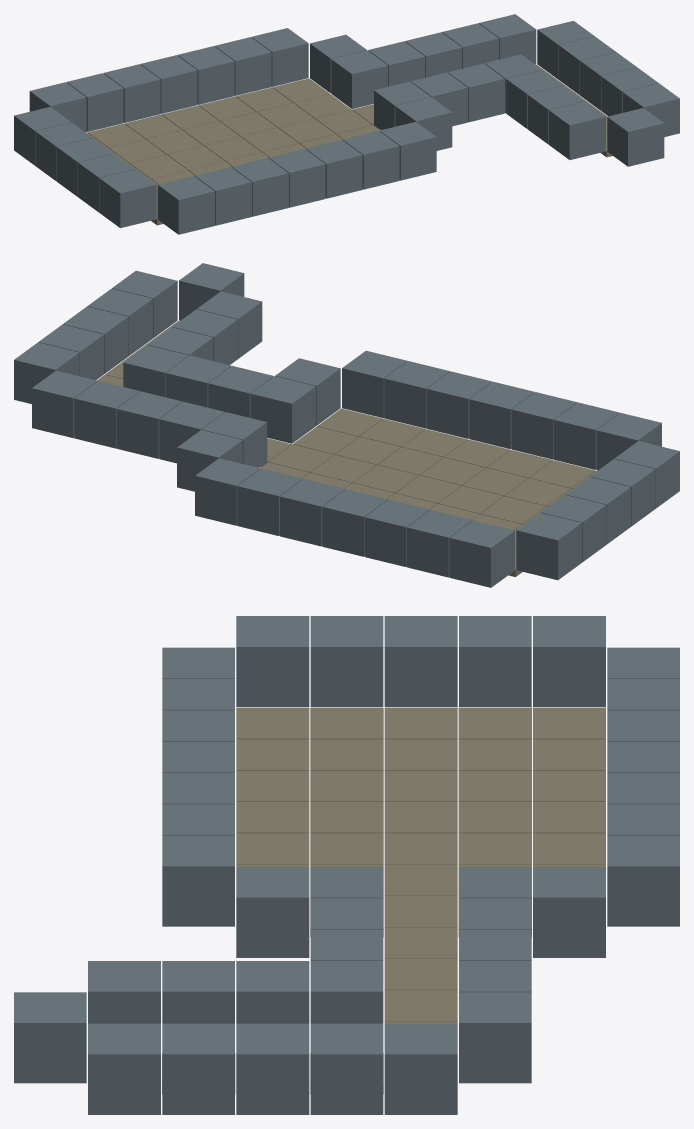
The model's file is room.glb.
3 renders of one model, top to bottom at view 1: azimuth 30°, elevation 25°; view 2: azimuth 150°, elevation 25°; view 3: azimuth 270°, elevation 25°, orthographic. The views are drawn at different scales.
Parts seen in each view (by area): view 1: wall_2_7_2, wall_3_8_2, wall_13_9_2, wall_14_10_2, wall_10_4_2, wall_15_9_2, wall_10_7_2, wall_3_2_2, wall_5_2_2, wall_8_8_2, wall_12_4_2, wall_8_2_2 (+85 smaller); view 2: wall_10_6_2, wall_3_2_2, wall_2_3_2, wall_3_8_2, wall_10_3_2, wall_15_5_2, wall_14_10_2, wall_4_8_2, wall_5_8_2, wall_6_8_2, wall_7_8_2, wall_12_6_2 (+84 smaller); view 3: wall_13_6_2, wall_13_7_2, wall_15_5_2, wall_15_7_2, wall_15_6_2, wall_2_6_2, wall_13_8_2, wall_13_9_2, wall_2_7_2, wall_2_5_2, wall_9_8_2, wall_15_8_2 (+93 smaller).
Part boxes in pixels (x1=…): wall_2_7_2: x1=99, y1=169, x2=156, y2=205; wall_3_8_2: x1=157, y1=176, x2=214, y2=211; wall_13_9_2: x1=549, y1=101, x2=605, y2=137; wall_14_10_2: x1=607, y1=108, x2=664, y2=143; wall_10_4_2: x1=331, y1=50, x2=388, y2=85; wall_15_9_2: x1=623, y1=83, x2=679, y2=116; wall_10_7_2: x1=395, y1=97, x2=452, y2=130; wall_3_2_2: x1=29, y1=82, x2=86, y2=114; wall_5_2_2: x1=103, y1=64, x2=160, y2=100; wall_8_8_2: x1=343, y1=131, x2=399, y2=167; wall_12_4_2: x1=405, y1=32, x2=462, y2=68; wall_8_2_2: x1=214, y1=37, x2=271, y2=73; wall_10_6_2: x1=250, y1=376, x2=315, y2=416; wall_3_2_2: x1=449, y1=520, x2=514, y2=561; wall_2_3_2: x1=516, y1=512, x2=581, y2=554; wall_3_8_2: x1=596, y1=412, x2=661, y2=451; wall_10_3_2: x1=177, y1=430, x2=242, y2=467; wall_15_5_2: x1=14, y1=342, x2=79, y2=379; wall_14_10_2: x1=179, y1=263, x2=244, y2=300; wall_4_8_2: x1=554, y1=402, x2=619, y2=444; wall_5_8_2: x1=511, y1=392, x2=577, y2=433; wall_6_8_2: x1=469, y1=381, x2=534, y2=423; wall_7_8_2: x1=426, y1=371, x2=492, y2=413; wall_12_6_2: x1=165, y1=355, x2=231, y2=396; wall_13_6_2: x1=310, y1=961, x2=383, y2=1012; wall_13_7_2: x1=236, y1=961, x2=309, y2=1012; wall_15_5_2: x1=384, y1=1023, x2=457, y2=1075; wall_15_7_2: x1=236, y1=1023, x2=309, y2=1075; wall_15_6_2: x1=310, y1=1023, x2=383, y2=1075; wall_2_6_2: x1=310, y1=616, x2=383, y2=668; wall_13_8_2: x1=162, y1=961, x2=234, y2=1012; wall_13_9_2: x1=88, y1=961, x2=160, y2=1012; wall_2_7_2: x1=236, y1=616, x2=309, y2=667; wall_2_5_2: x1=384, y1=616, x2=457, y2=667; wall_9_8_2: x1=162, y1=835, x2=234, y2=887; wall_15_8_2: x1=162, y1=1023, x2=234, y2=1075.
Bounding box in the file's own units: 13.98 × 1.06 × 8.98.
